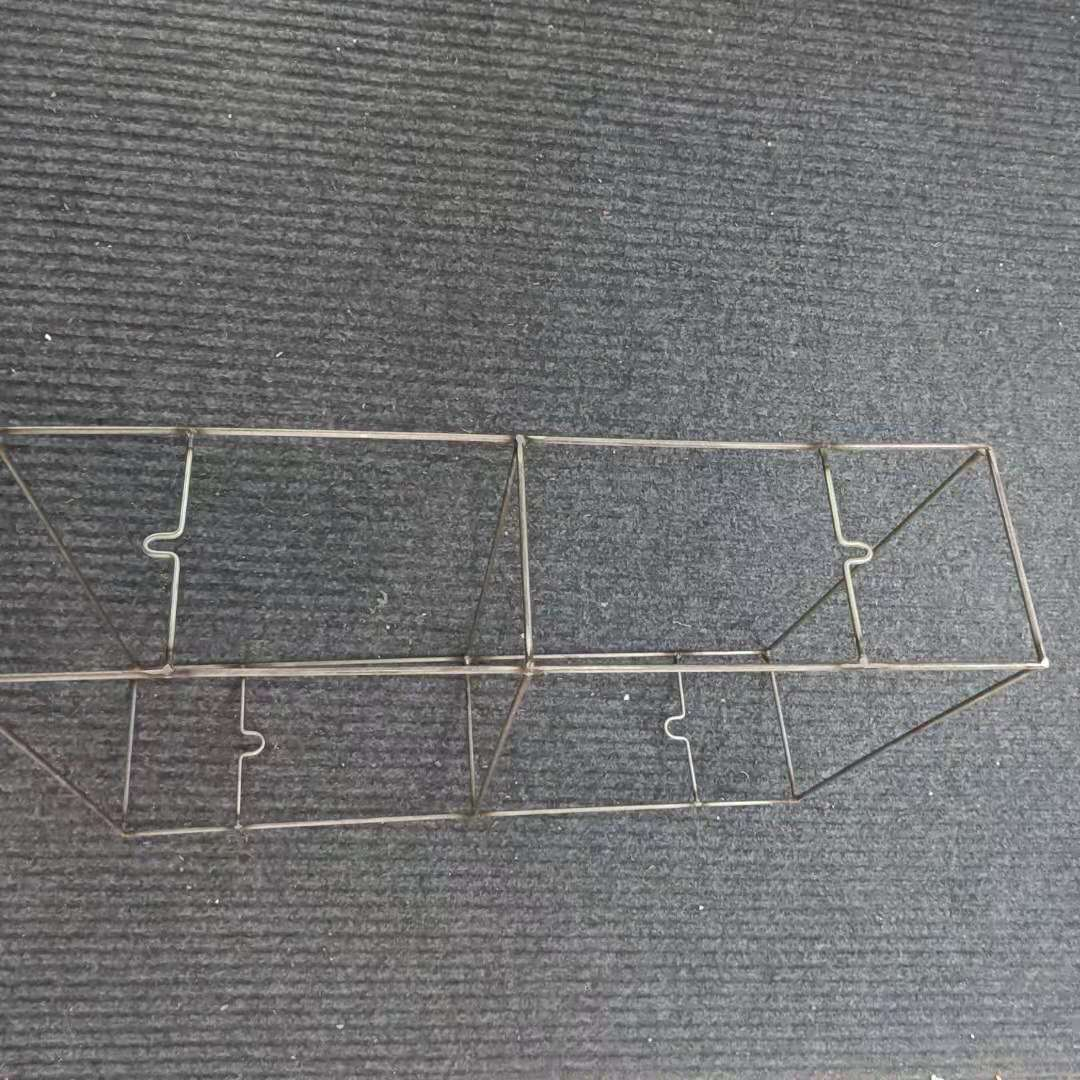curvedhole: (141, 515, 195, 572), (822, 535, 881, 584), (231, 719, 273, 771), (659, 702, 700, 755)
